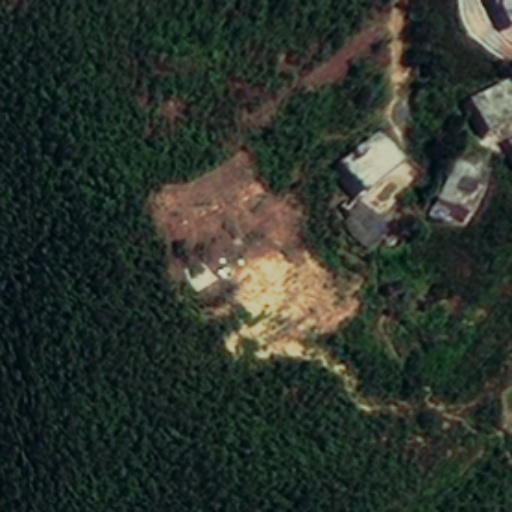landslide: (148, 165, 337, 356)
